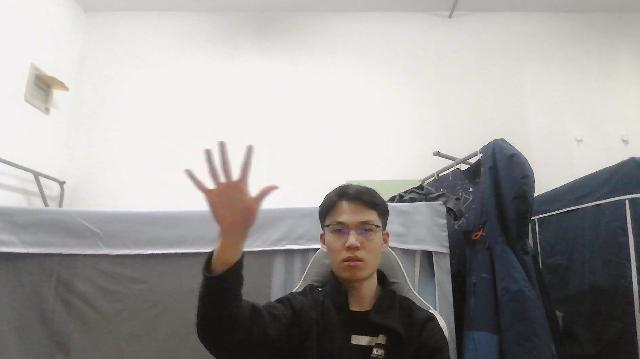five: (184, 142, 278, 236)
